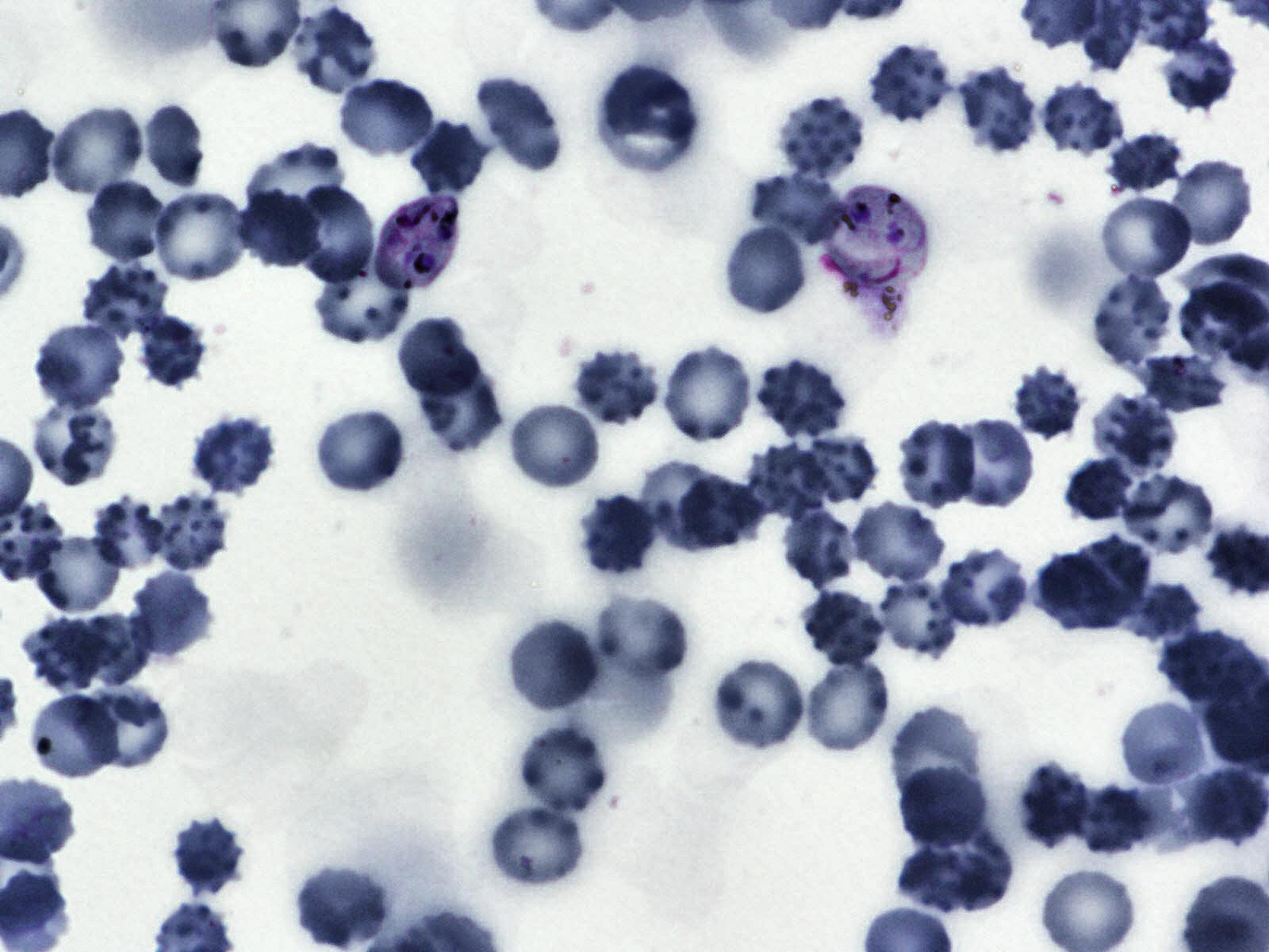Infected: (822, 186, 926, 299), (375, 193, 463, 290)
Uninfected: (595, 67, 698, 167), (30, 320, 131, 409), (244, 145, 344, 234), (316, 251, 411, 344), (293, 864, 391, 950), (894, 708, 980, 804), (298, 183, 378, 286), (898, 840, 1011, 912), (665, 347, 750, 441), (1159, 630, 1263, 704), (128, 570, 213, 660), (1067, 533, 1152, 623), (776, 96, 868, 179), (475, 78, 558, 170), (945, 419, 1032, 506), (1121, 702, 1208, 788), (52, 110, 141, 194), (511, 621, 596, 708), (155, 194, 243, 278), (718, 662, 804, 747), (1105, 197, 1191, 282), (866, 43, 954, 125), (236, 188, 321, 272), (955, 64, 1035, 153), (1125, 475, 1214, 555), (755, 359, 845, 438), (1089, 394, 1179, 473), (853, 504, 945, 581), (514, 404, 597, 489), (417, 366, 500, 451), (81, 264, 170, 343), (34, 397, 113, 486), (1093, 275, 1171, 365), (34, 694, 116, 779), (809, 662, 888, 750), (492, 808, 582, 885), (523, 726, 604, 811), (146, 492, 232, 572), (940, 548, 1026, 628), (901, 766, 987, 846), (79, 689, 168, 766), (293, 9, 375, 92), (190, 416, 277, 494), (1171, 163, 1250, 248), (752, 171, 845, 243), (343, 80, 432, 155), (600, 599, 685, 677), (31, 536, 121, 609), (319, 411, 402, 490), (1156, 35, 1240, 113), (728, 226, 803, 313), (1033, 555, 1118, 631), (86, 180, 168, 258), (409, 119, 489, 198), (573, 350, 657, 424), (903, 421, 974, 508), (401, 319, 480, 397), (644, 463, 714, 551), (784, 509, 860, 588), (1041, 82, 1123, 155), (799, 593, 884, 663), (582, 495, 657, 574), (71, 616, 153, 688), (882, 580, 960, 655), (750, 444, 826, 519), (1194, 770, 1269, 846), (1069, 785, 1147, 854), (682, 477, 761, 545), (1128, 356, 1225, 411), (799, 436, 877, 504), (92, 499, 167, 569), (1022, 766, 1086, 848), (174, 820, 241, 896), (1013, 368, 1080, 440), (29, 620, 98, 689), (1106, 135, 1186, 194), (139, 319, 206, 388), (1063, 455, 1133, 521), (148, 104, 204, 186), (1125, 582, 1201, 641)
